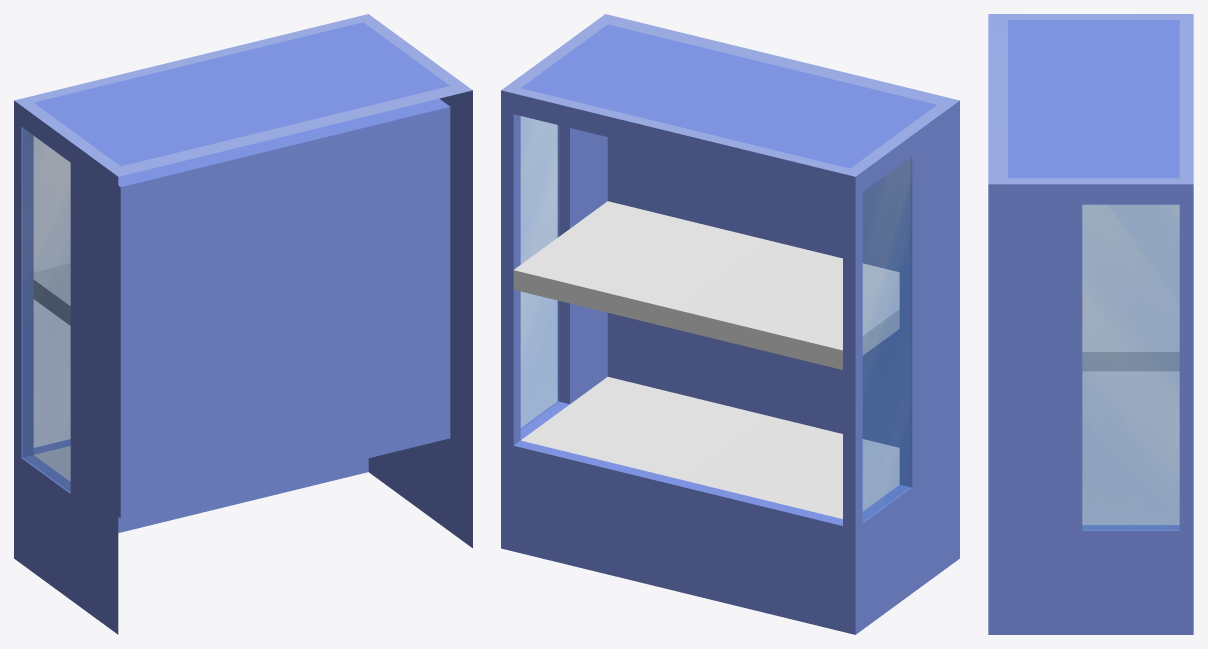
File: stilage.fbx
3 renders of one model, left to right at view 1: azimuth 30°, elevation 25°; view 2: azimuth 150°, elevation 25°; view 3: azimuth 270°, elevation 25°, orthographic.
Visible parts, largest first — view 1: stillage1; view 2: stillage1; view 3: stillage1.
Boxes of the visible parts, x1=… form: stillage1: x1=14, y1=14, x2=472, y2=634; stillage1: x1=501, y1=14, x2=959, y2=634; stillage1: x1=988, y1=14, x2=1193, y2=634.
Size of the model in its own units: 175 by 217 by 89.42.
